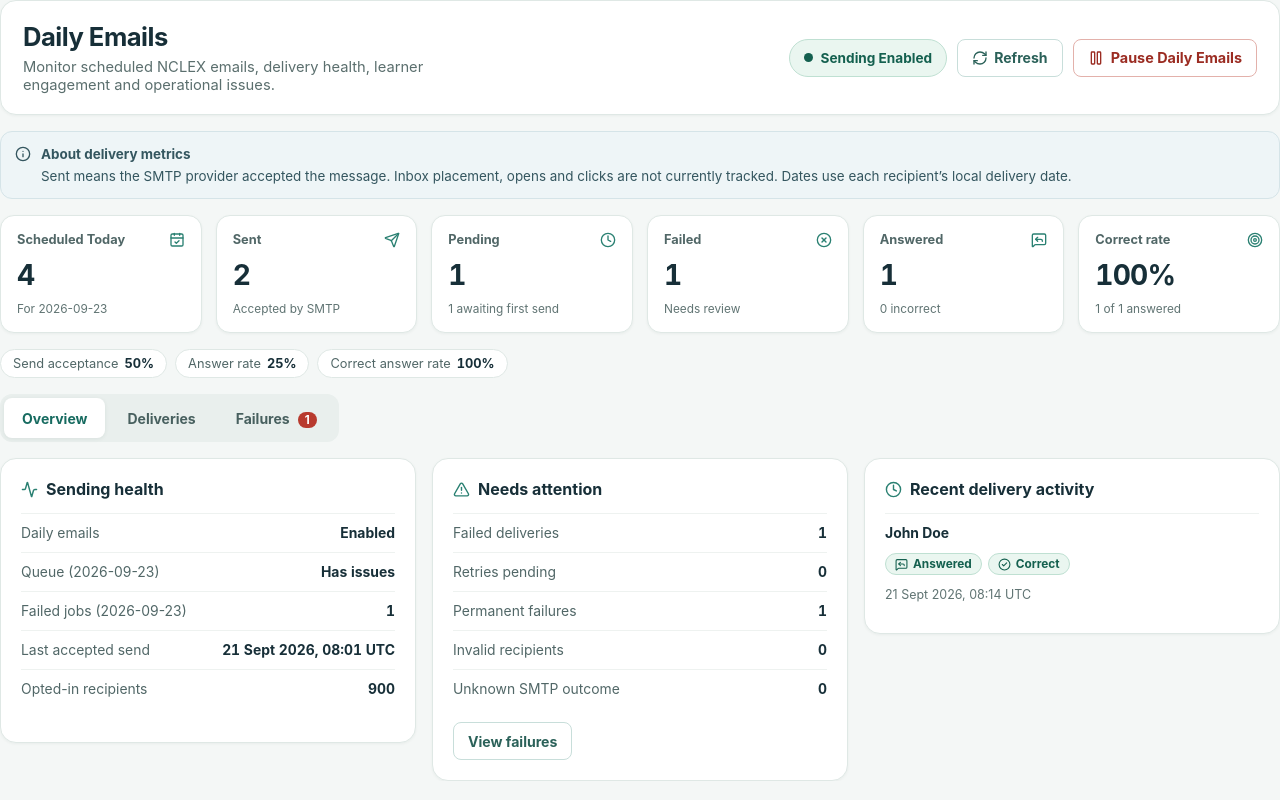
detail drawer opens with grouped fields, sanitizes errors and hides secrets
Click the tab "Deliveries".
click(162, 418)  # box [109,398,214,438]
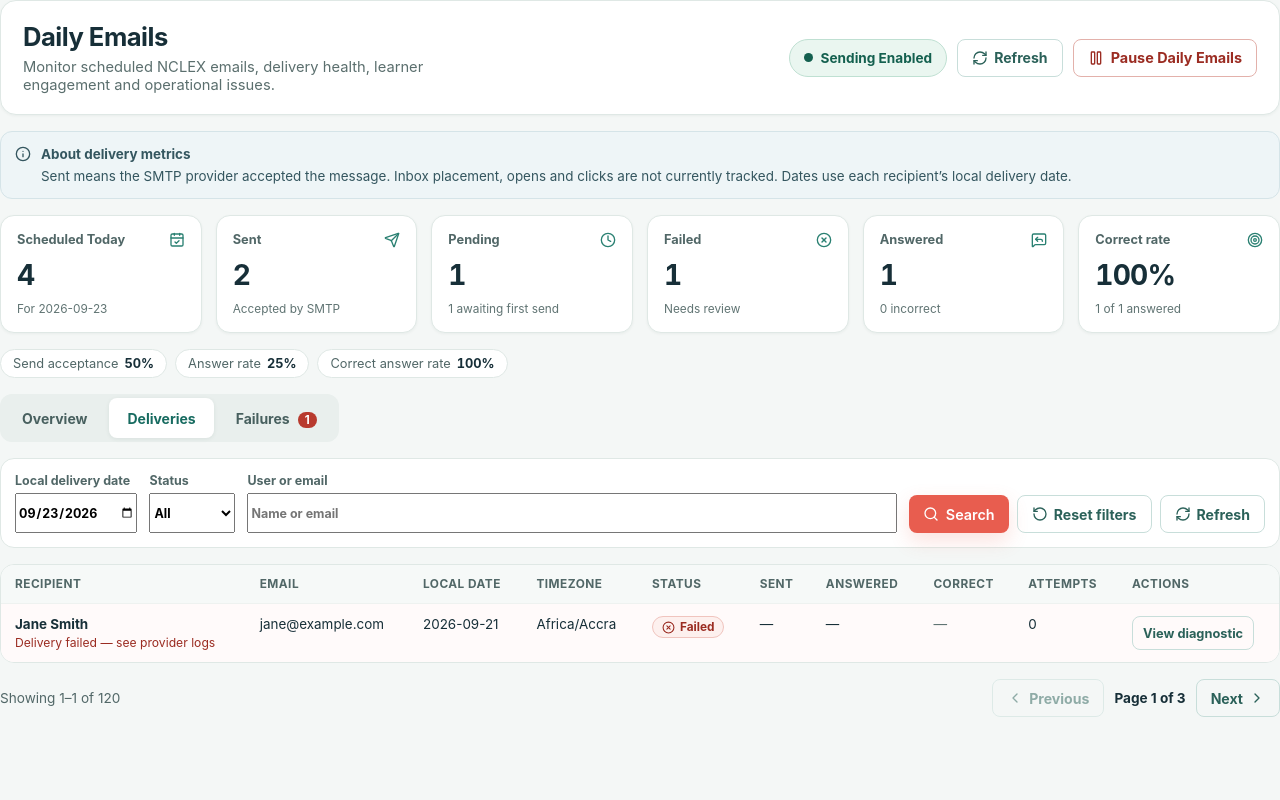
Click the button with aria-label "View details for Jane Smith".
click(1193, 633)  # box [1132,616,1254,650]
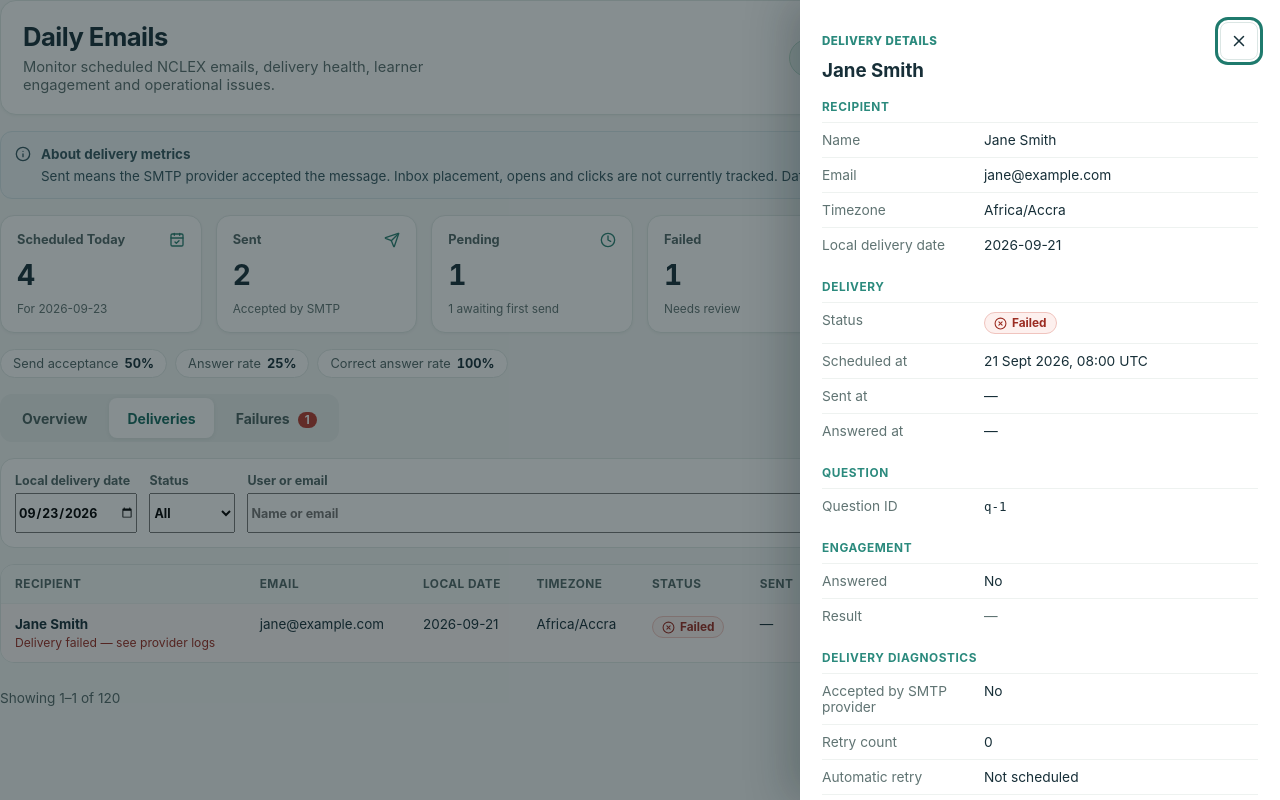
Check: the heading "Recipient" is shown, box [822,100,889,114]
Check: the heading "Delivery" is shown, box [822,280,885,294]
Check: the heading "Question" is shown, box [822,466,889,480]
Click the button named "Close delivery details".
click(1239, 41)  # box [1220,22,1258,60]
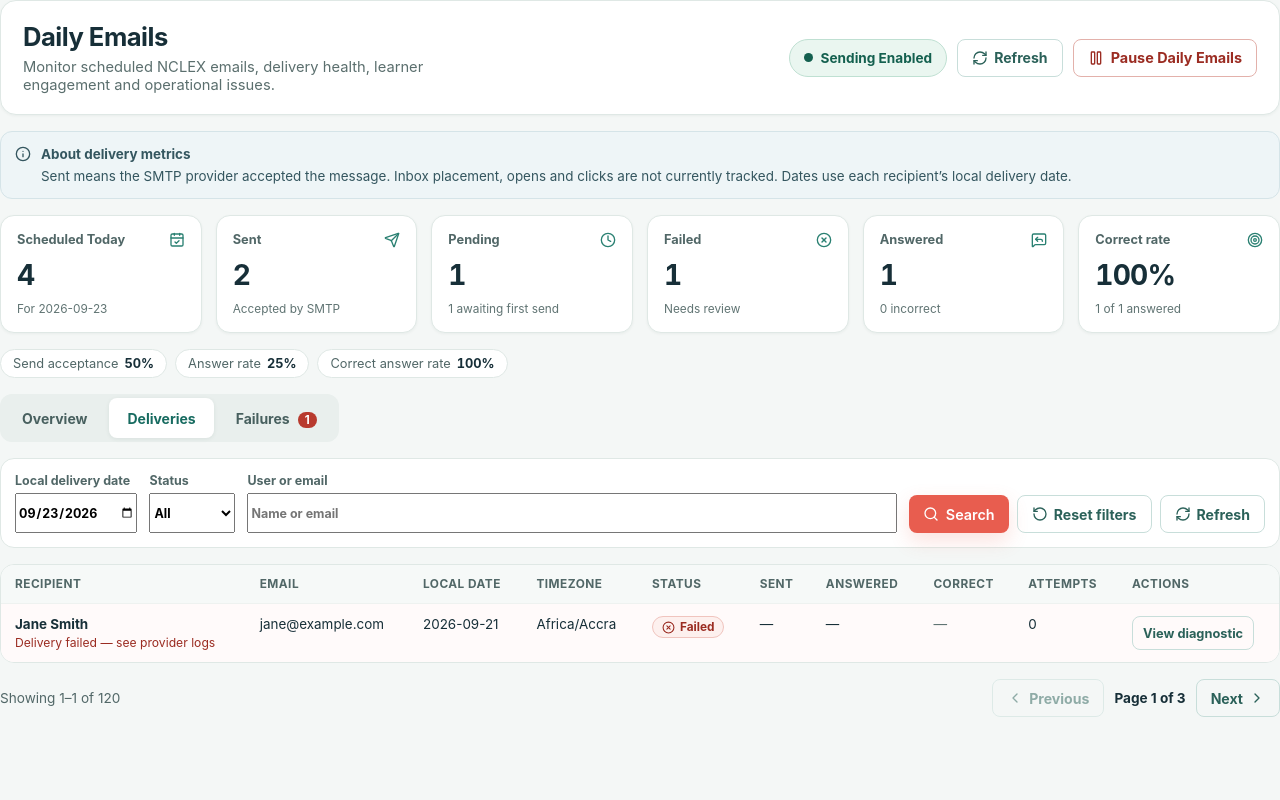
Check: the dialog is gone
